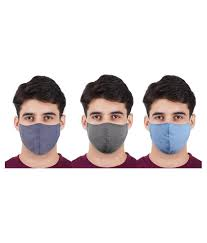with-mask: (9, 73, 68, 155), (143, 69, 196, 159), (78, 72, 131, 158)
